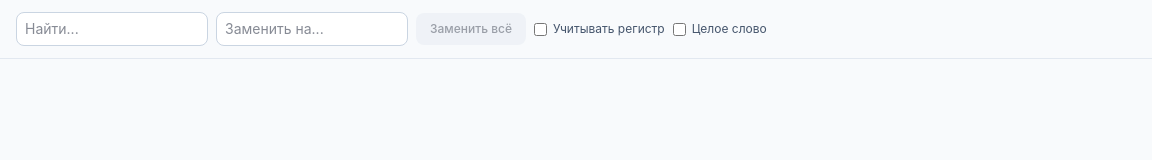
FindReplacePanel › excludes partial-word matches once "Целое слово" is checked
// "волк" matches "волка" as a substring, but not as a whole word.
Type "волк" into the field labelled "Найти" at [112, 29], box [16,12,208,46]
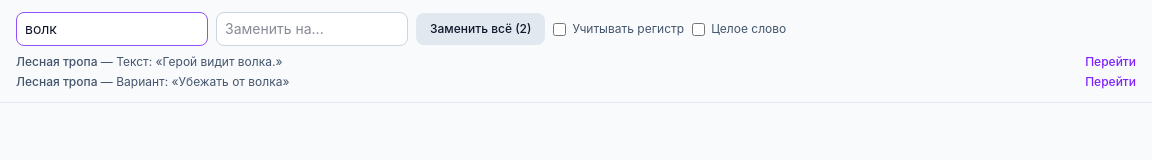
Expected: the button "Заменить всё (2)" is shown, [416,13,545,45]
Click the checkbox labelled "Целое слово" at [699, 29], box [692,22,705,36]
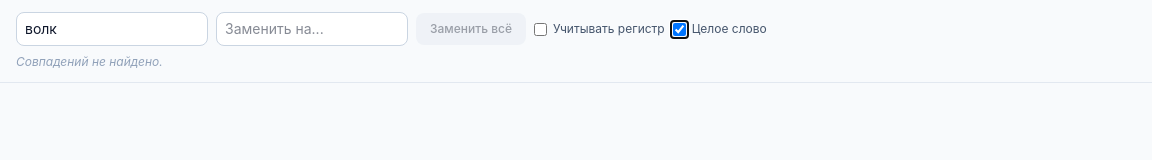
Expected: the text "Совпадений не найдено." is shown, [16,54,163,69]
